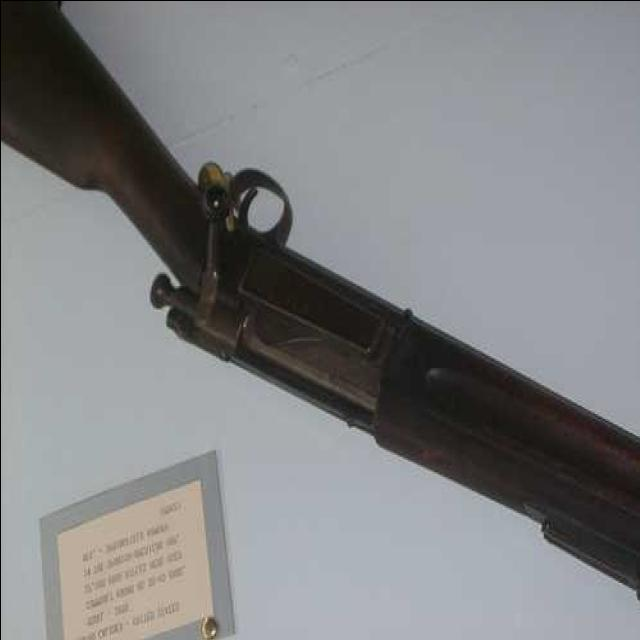heavyweapon: (1, 2, 640, 602)
